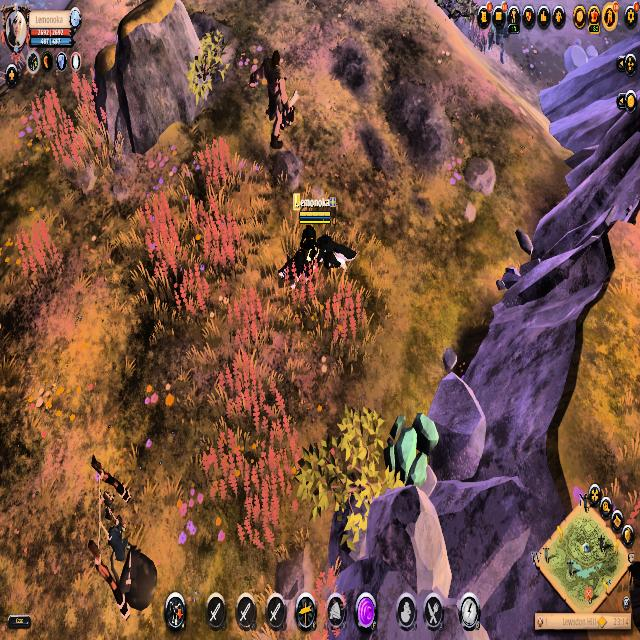rock tier 3: (379, 408, 437, 491)
